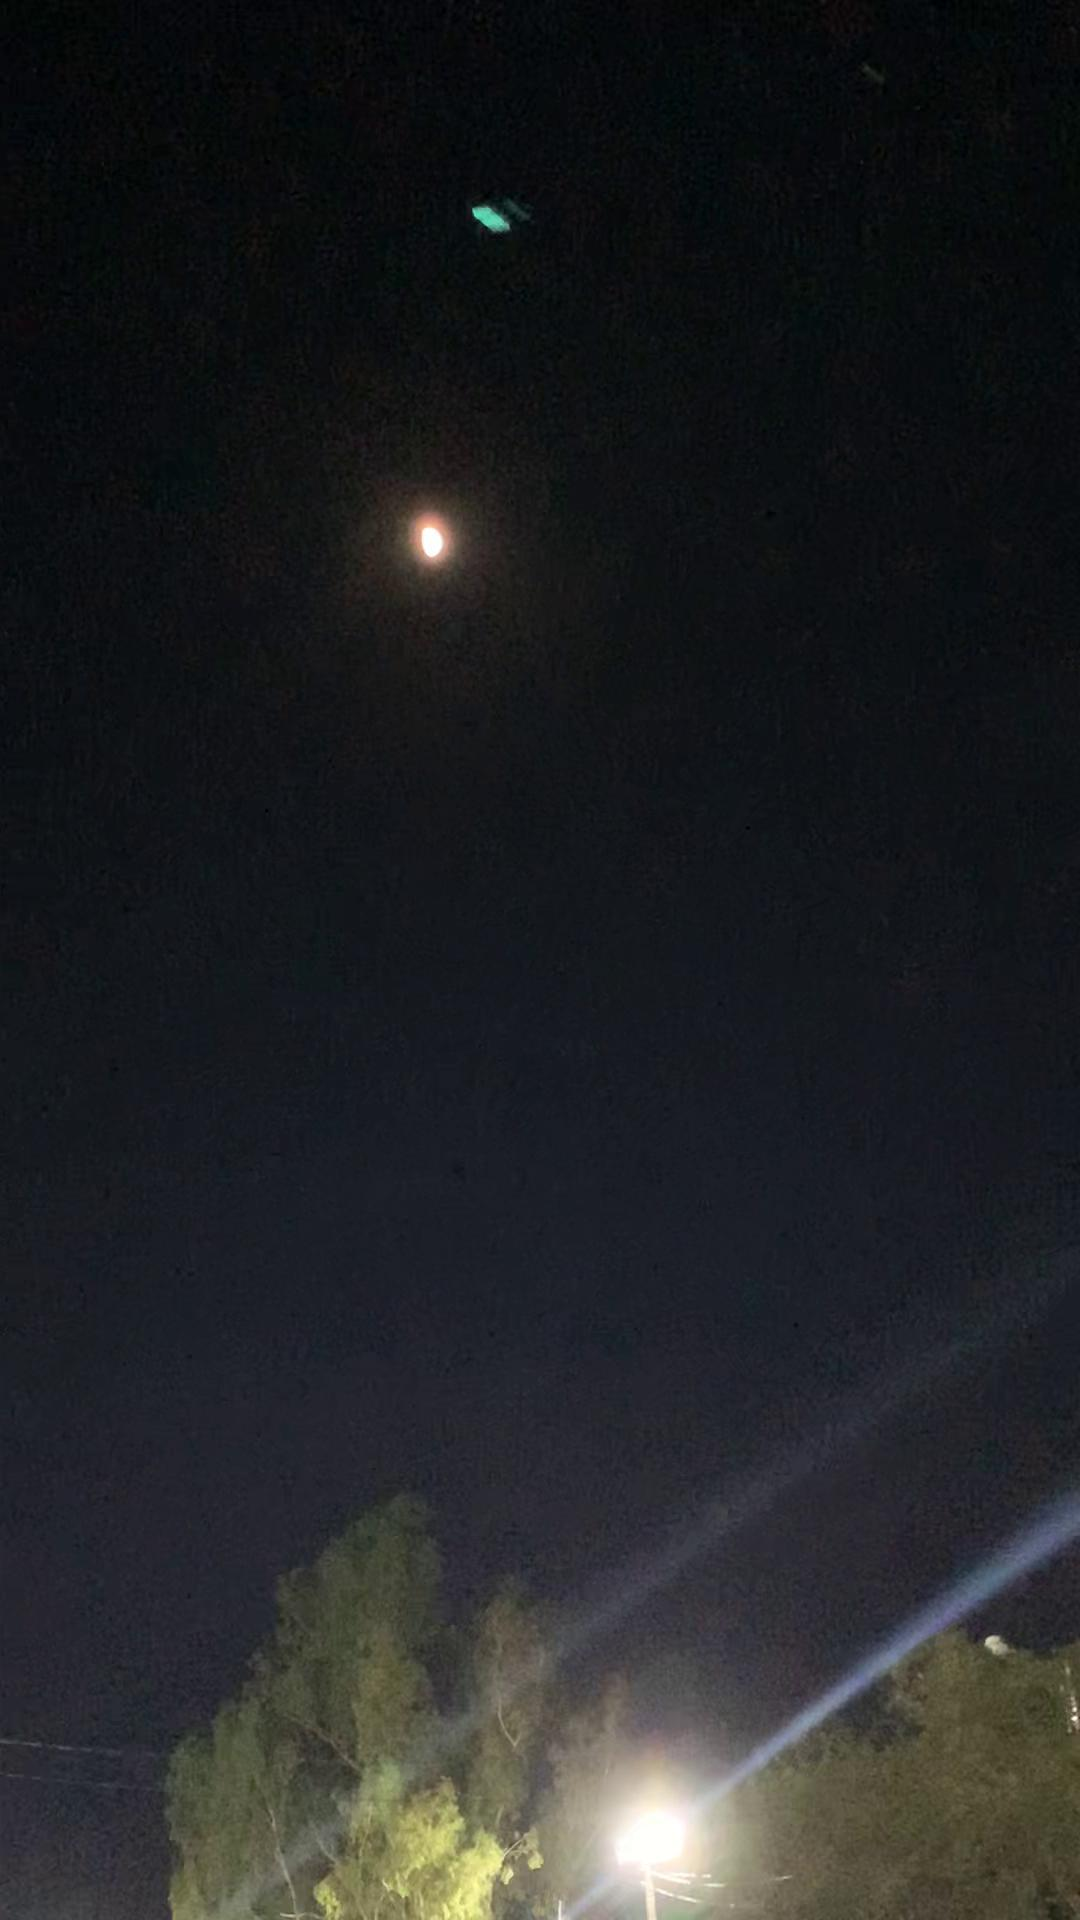moon: (394, 513, 471, 592)
